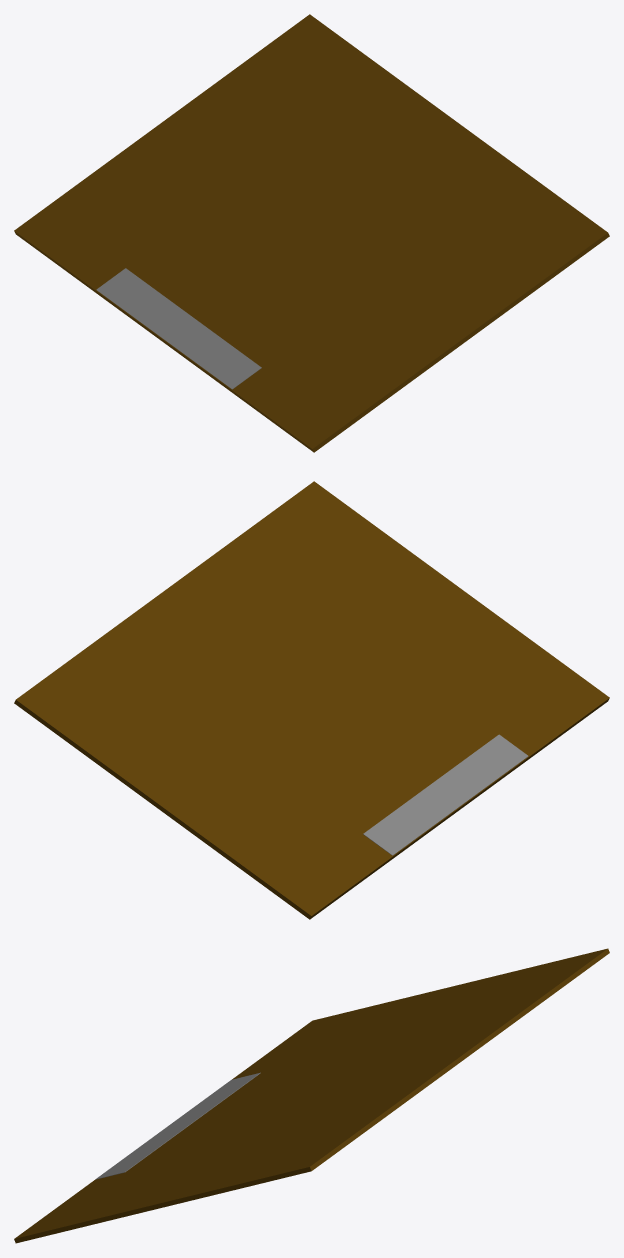
Rendered from OtherPencilCase_Cover2.FBX.
3 renders of one model, top to bottom at view 1: azimuth 30°, elevation 25°; view 2: azimuth 150°, elevation 25°; view 3: azimuth 330°, elevation 25°, orthographic.
Visible parts, largest first — view 1: Box001, Box002; view 2: Box001, Box002; view 3: Box001, Box002.
Part boxes in pixels (x1=…): Box001: x1=14, y1=14, x2=609, y2=452; Box002: x1=96, y1=268, x2=261, y2=389; Box001: x1=14, y1=481, x2=609, y2=919; Box002: x1=363, y1=734, x2=528, y2=855; Box001: x1=14, y1=948, x2=609, y2=1243; Box002: x1=95, y1=1072, x2=260, y2=1179.
Size of the model in its own units: 87.62 by 41.75 by 152.
